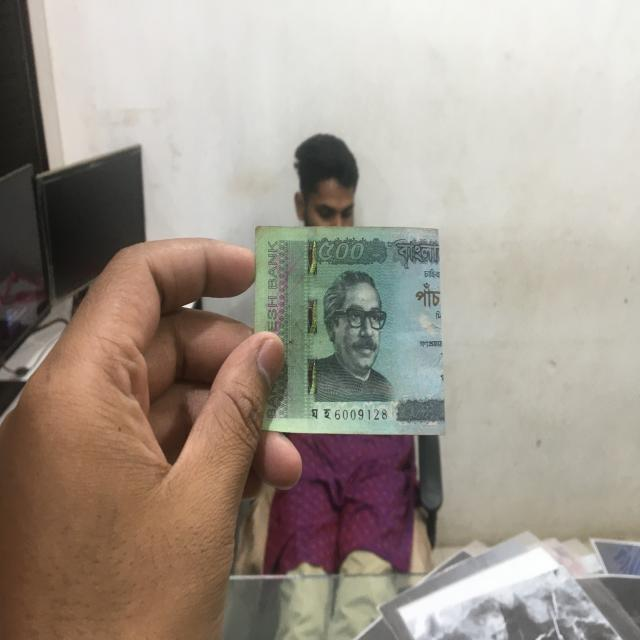Taka: (257, 222, 440, 426)
